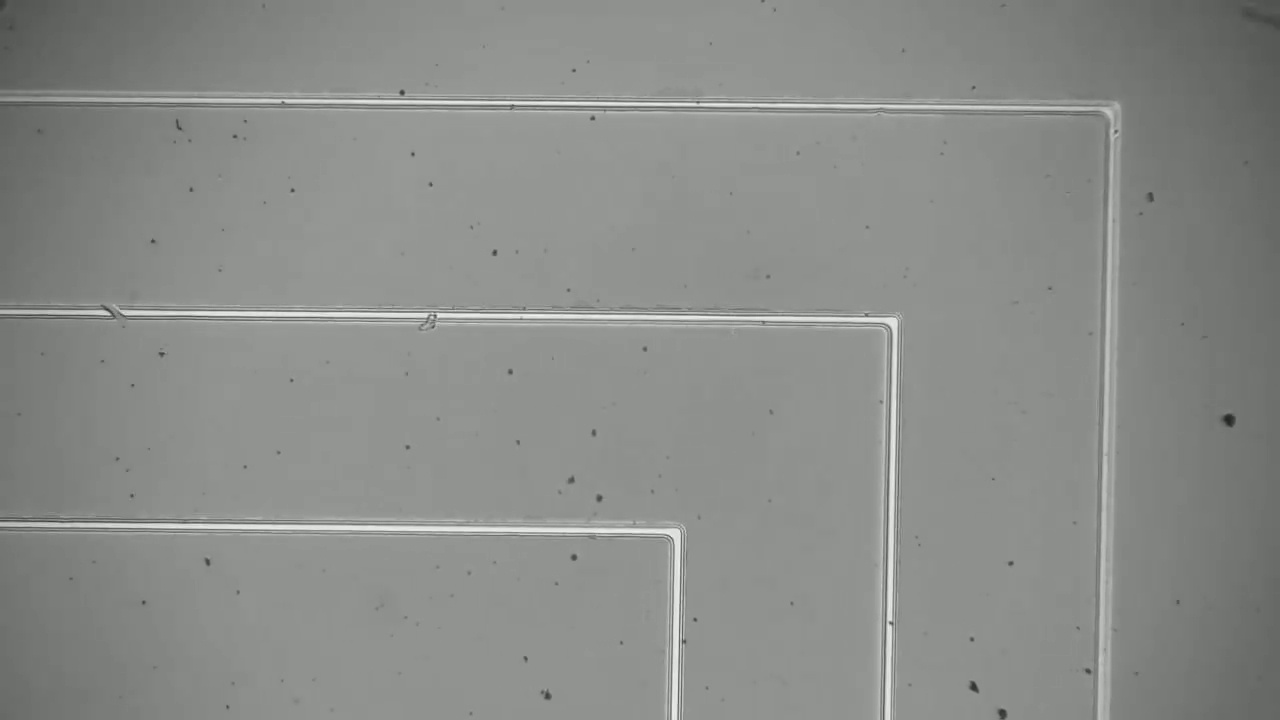open: (88, 287, 141, 334)
stains_enbedded: (407, 299, 452, 339)
